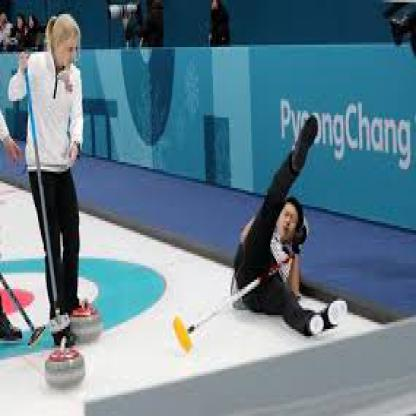Fall_Down: (234, 114, 349, 338)
